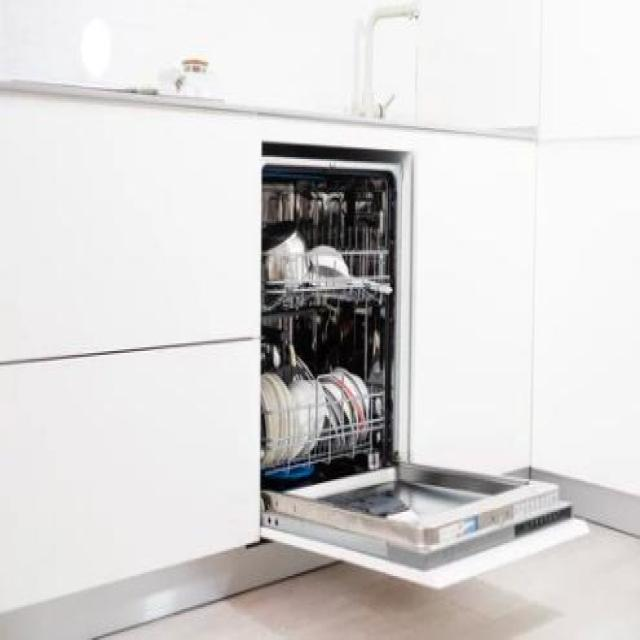dishwasher: (233, 124, 596, 599)
